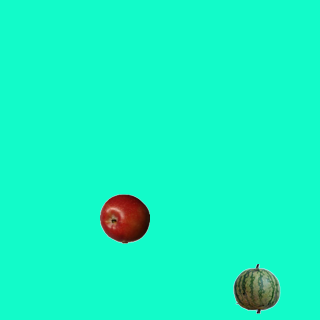Apple Braeburn: (99, 193, 149, 243)
Watermelon: (231, 263, 281, 313)
